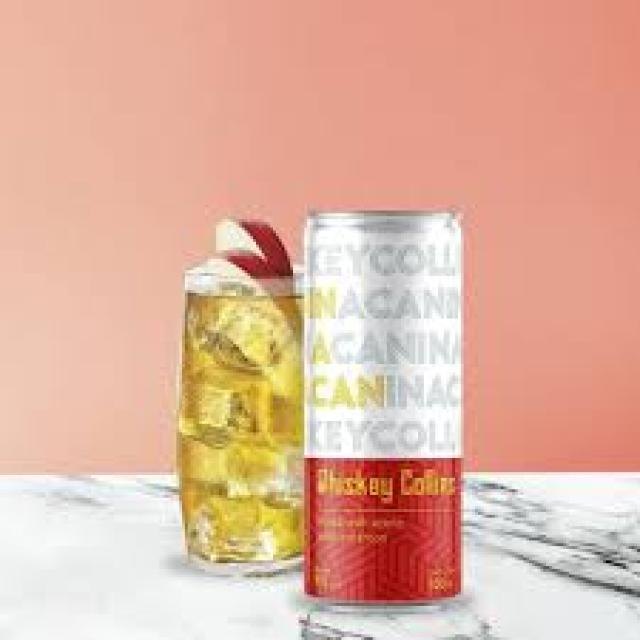Cans: (296, 202, 472, 617)
